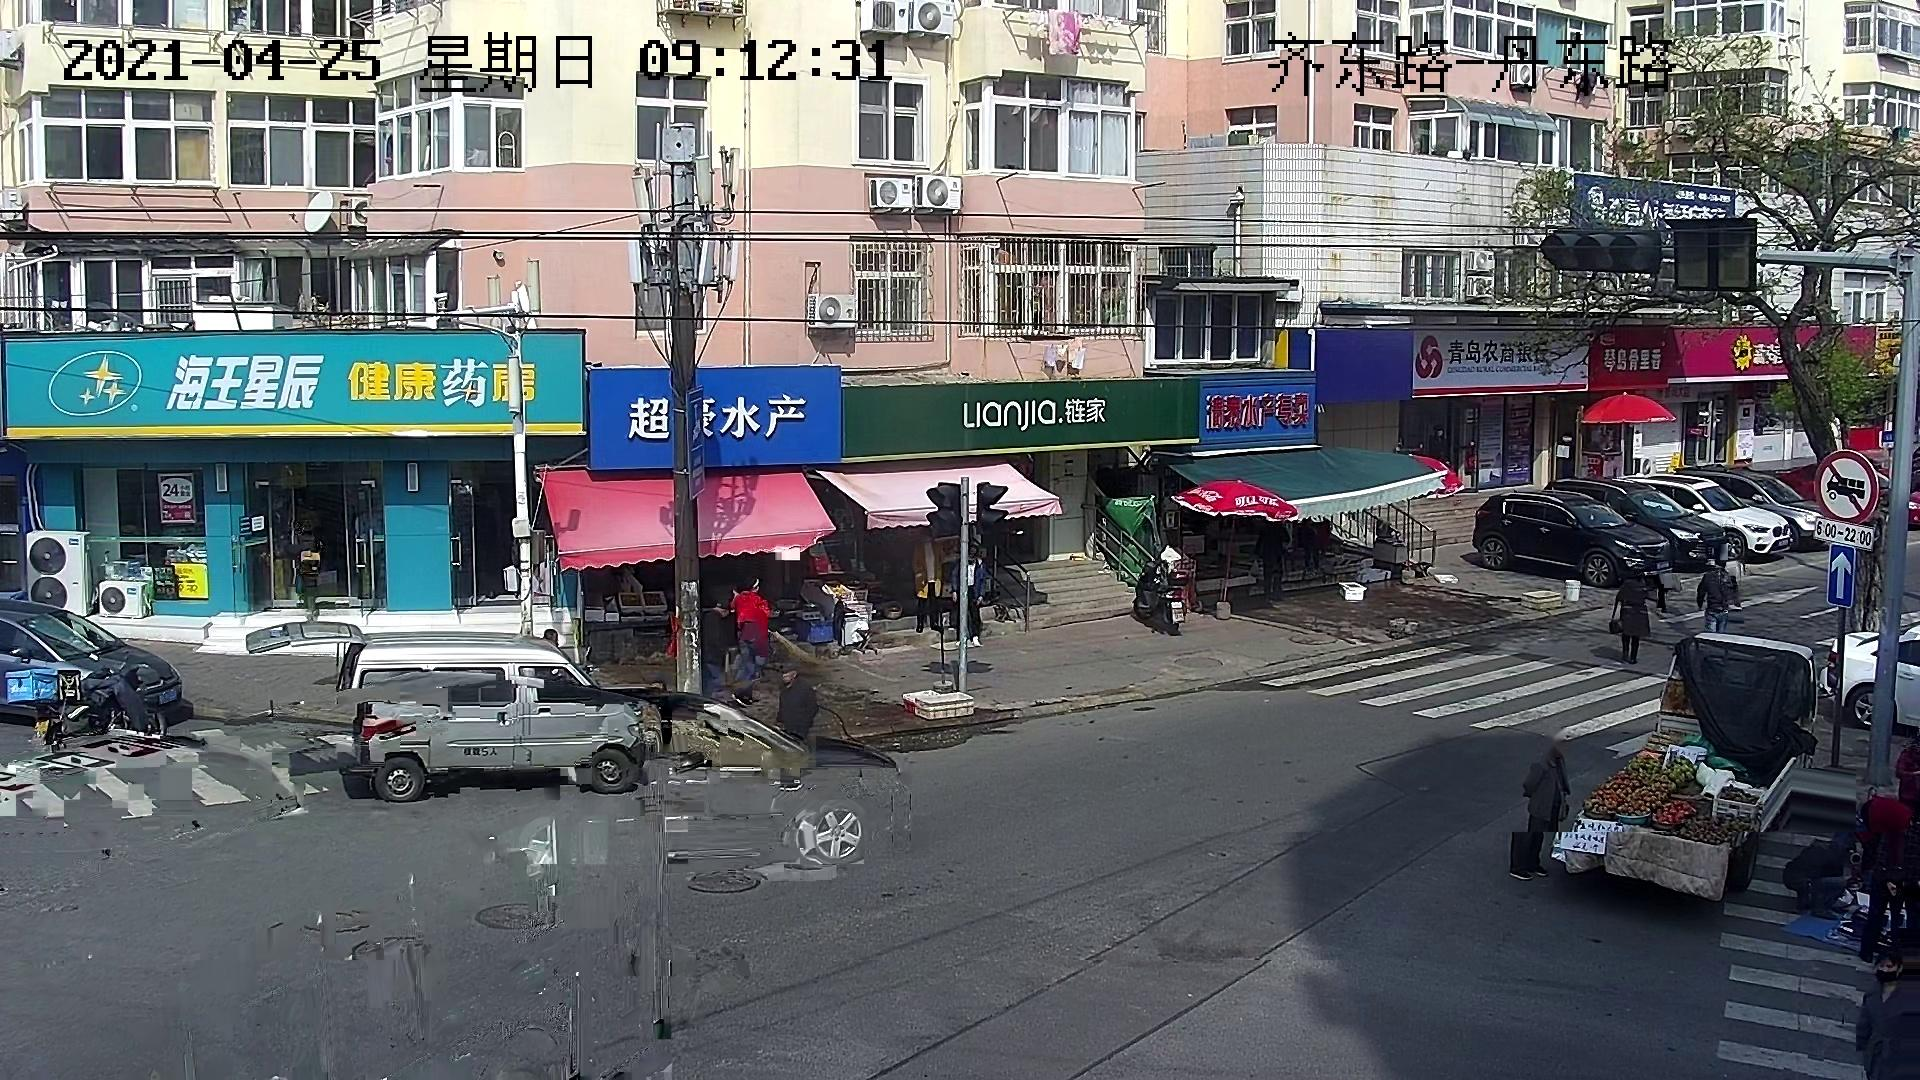chair: (855, 628, 881, 655), (992, 599, 1019, 622)
umbrella: (1167, 479, 1298, 524), (1576, 392, 1680, 423), (1410, 454, 1464, 498)
